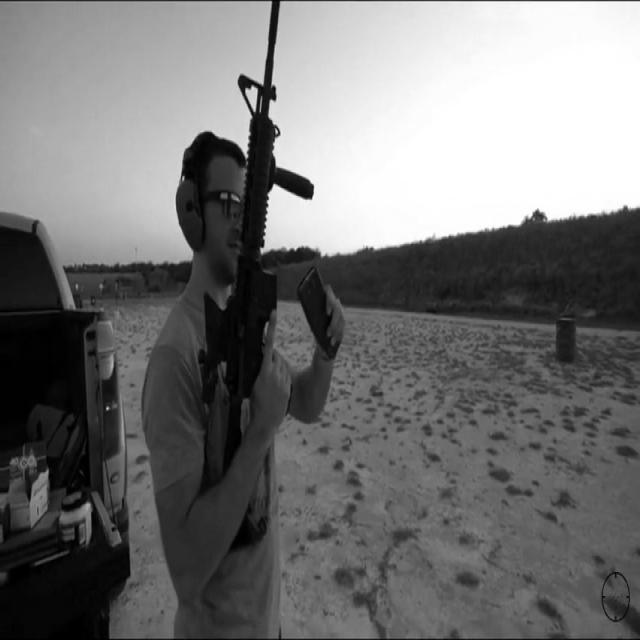Sniper: (118, 0, 364, 576)
